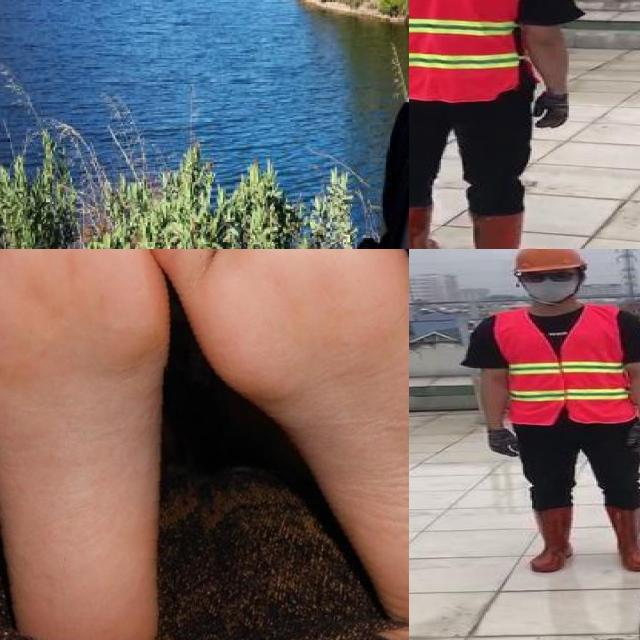Barefoots: (158, 249, 409, 632), (0, 249, 184, 640)
boots: (525, 503, 575, 575), (464, 212, 551, 249), (603, 505, 640, 572), (409, 202, 444, 249)
face_mask: (515, 268, 583, 302)
glasses: (515, 268, 579, 286)
hand_glove: (537, 88, 569, 128), (484, 429, 523, 458), (624, 423, 640, 452)
head_helmet: (510, 249, 588, 273)
person: (460, 249, 640, 576), (409, 0, 586, 249), (327, 0, 409, 249)
vest: (491, 305, 633, 423), (409, 0, 529, 100)
